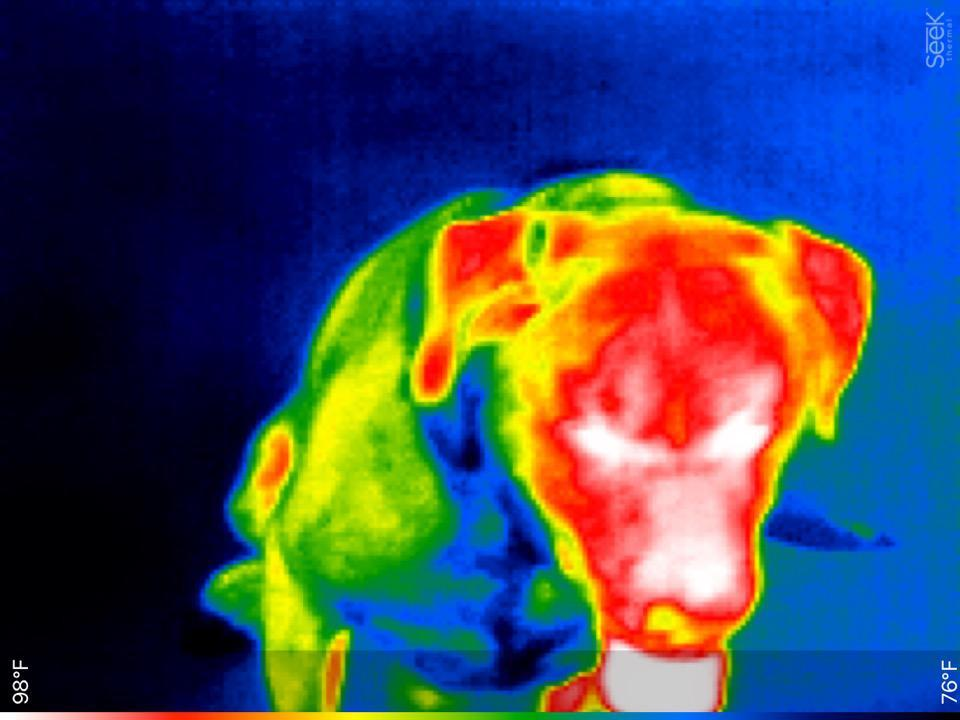dog: (198, 157, 885, 712)
